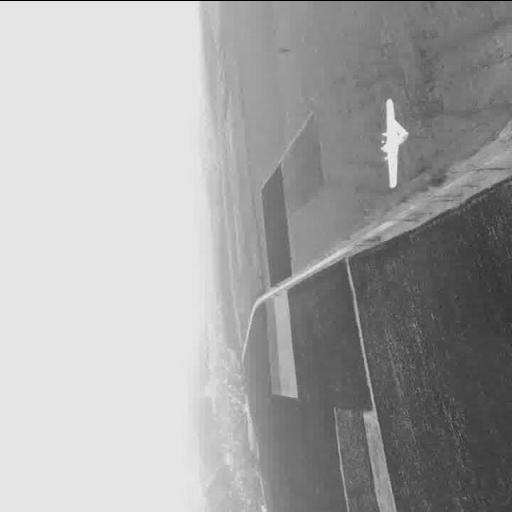uav: (368, 88, 430, 198)
